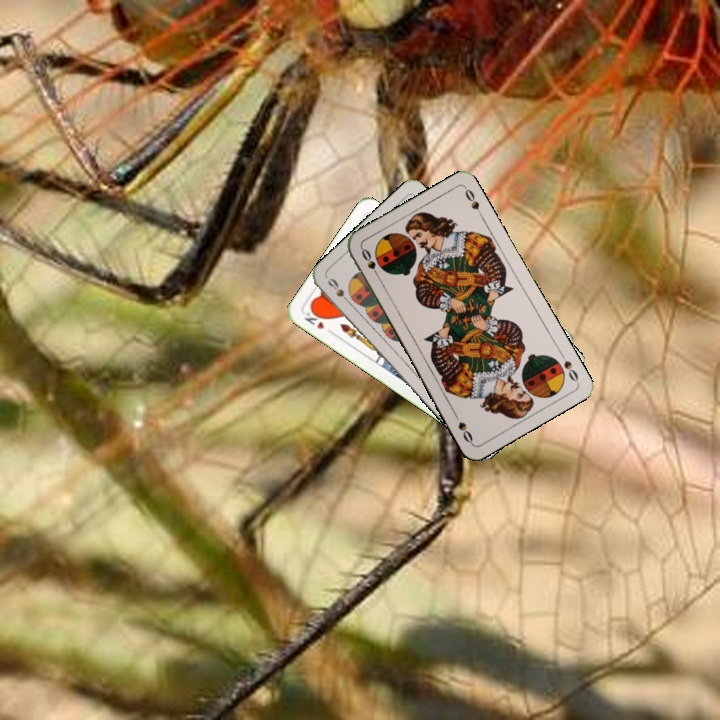HK: (300, 305, 336, 337)
S9: (323, 274, 354, 308)
SO: (357, 244, 383, 281), (555, 348, 581, 384)
